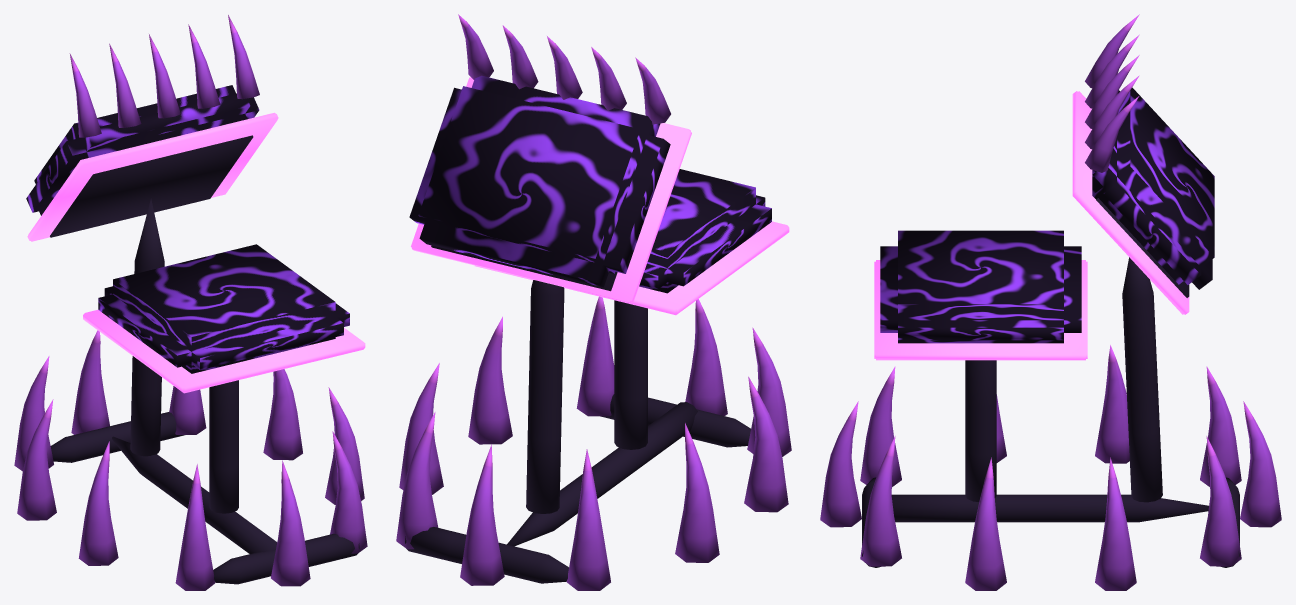
The model's file is VoidBench.fbx.
The picture shows the model from 3 angles, left to right: view 1: azimuth 30°, elevation 25°; view 2: azimuth 150°, elevation 25°; view 3: azimuth 270°, elevation 25°; orthographic projection. The views are drawn at different scales.
Visible parts, largest first — view 1: VoidBench, VoidBench_Glow; view 2: VoidBench, VoidBench_Glow; view 3: VoidBench, VoidBench_Glow.
Part boxes in pixels (<box>): VoidBench: <box>14,15,367,590</box>; VoidBench_Glow: <box>27,112,365,393</box>; VoidBench: <box>396,14,791,590</box>; VoidBench_Glow: <box>411,77,789,315</box>; VoidBench: <box>820,14,1281,590</box>; VoidBench_Glow: <box>874,91,1189,360</box>.
Size of the model in its own units: 192 by 298 by 264.
Materials: 2 (1 with a texture image).
